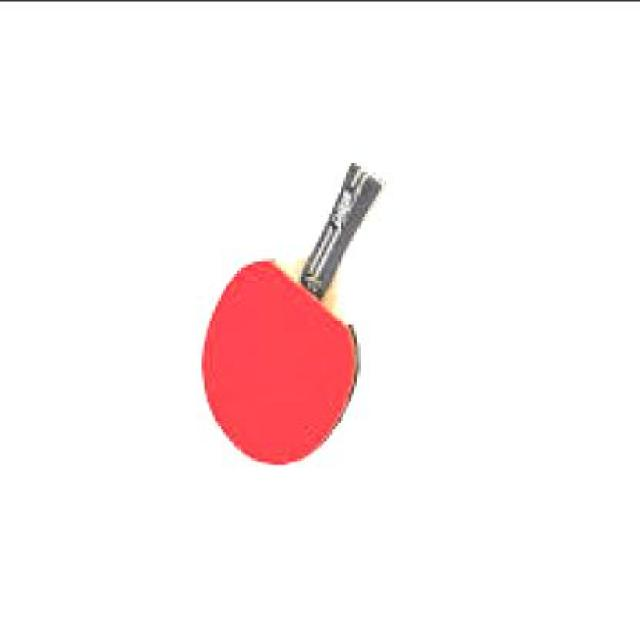table_tennis_racket: (196, 254, 362, 466)
